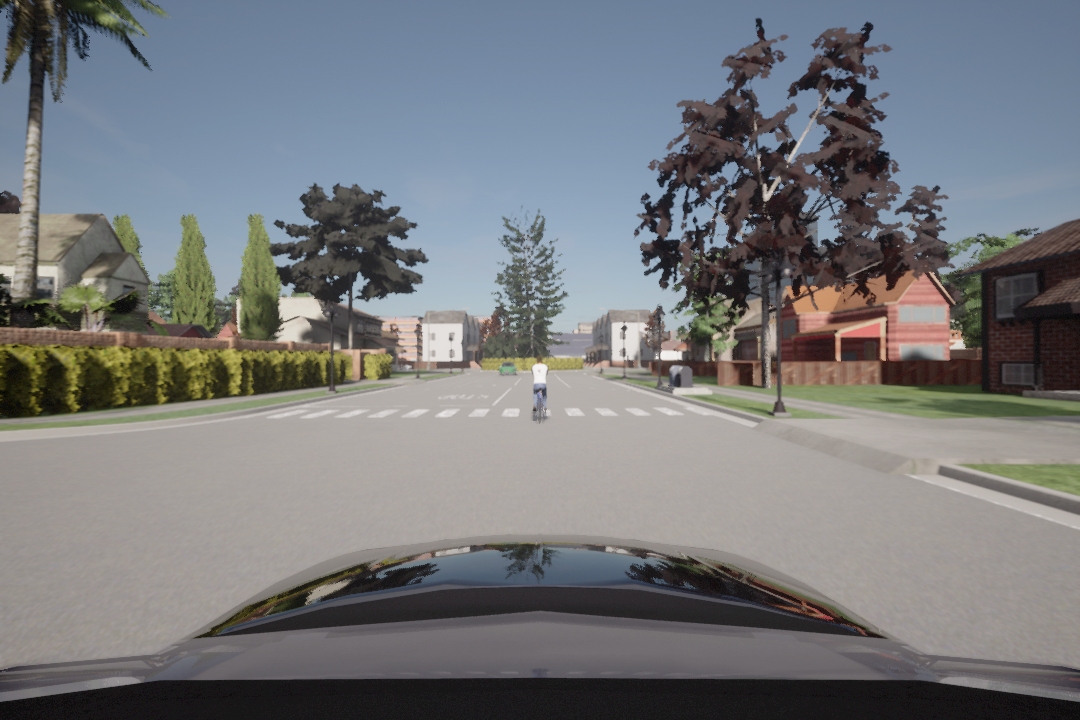walkside: (258, 405, 711, 419)
